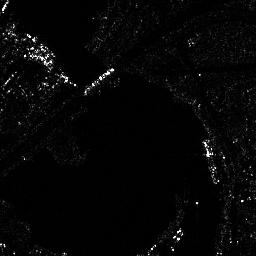ship: (205, 158, 220, 184)
